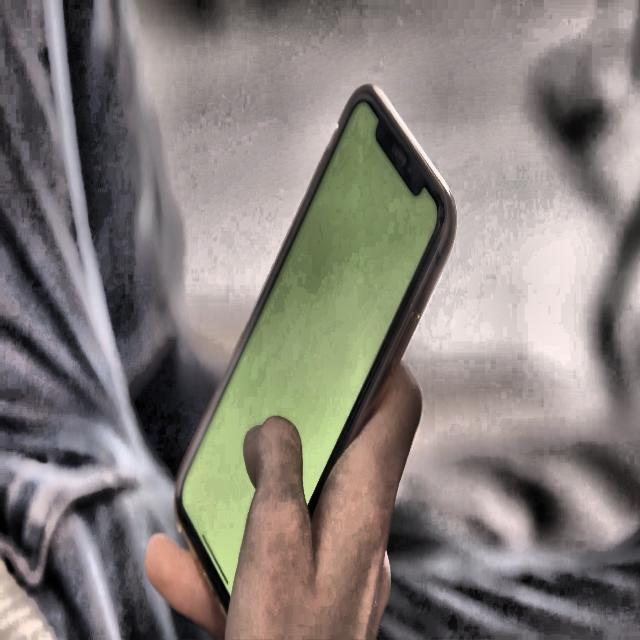Phone: (170, 77, 462, 616)
